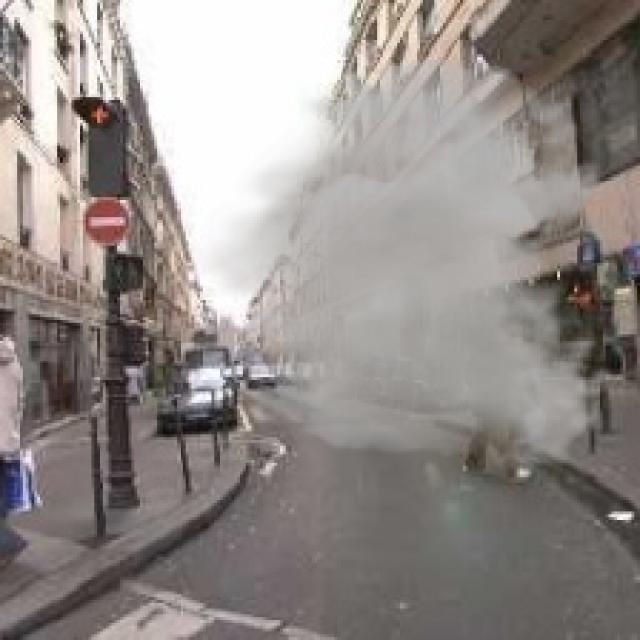Smoke: (188, 59, 614, 472)
